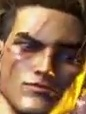kevin: (2, 6, 85, 109)
